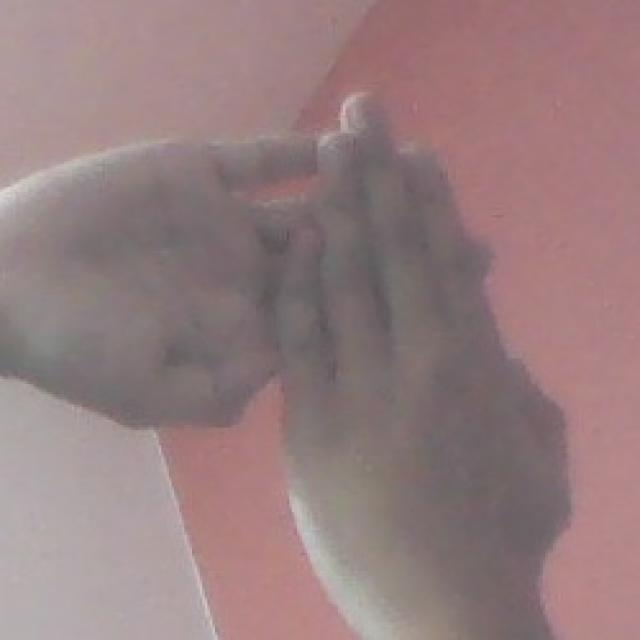Alphabet-H: (15, 77, 596, 615)
